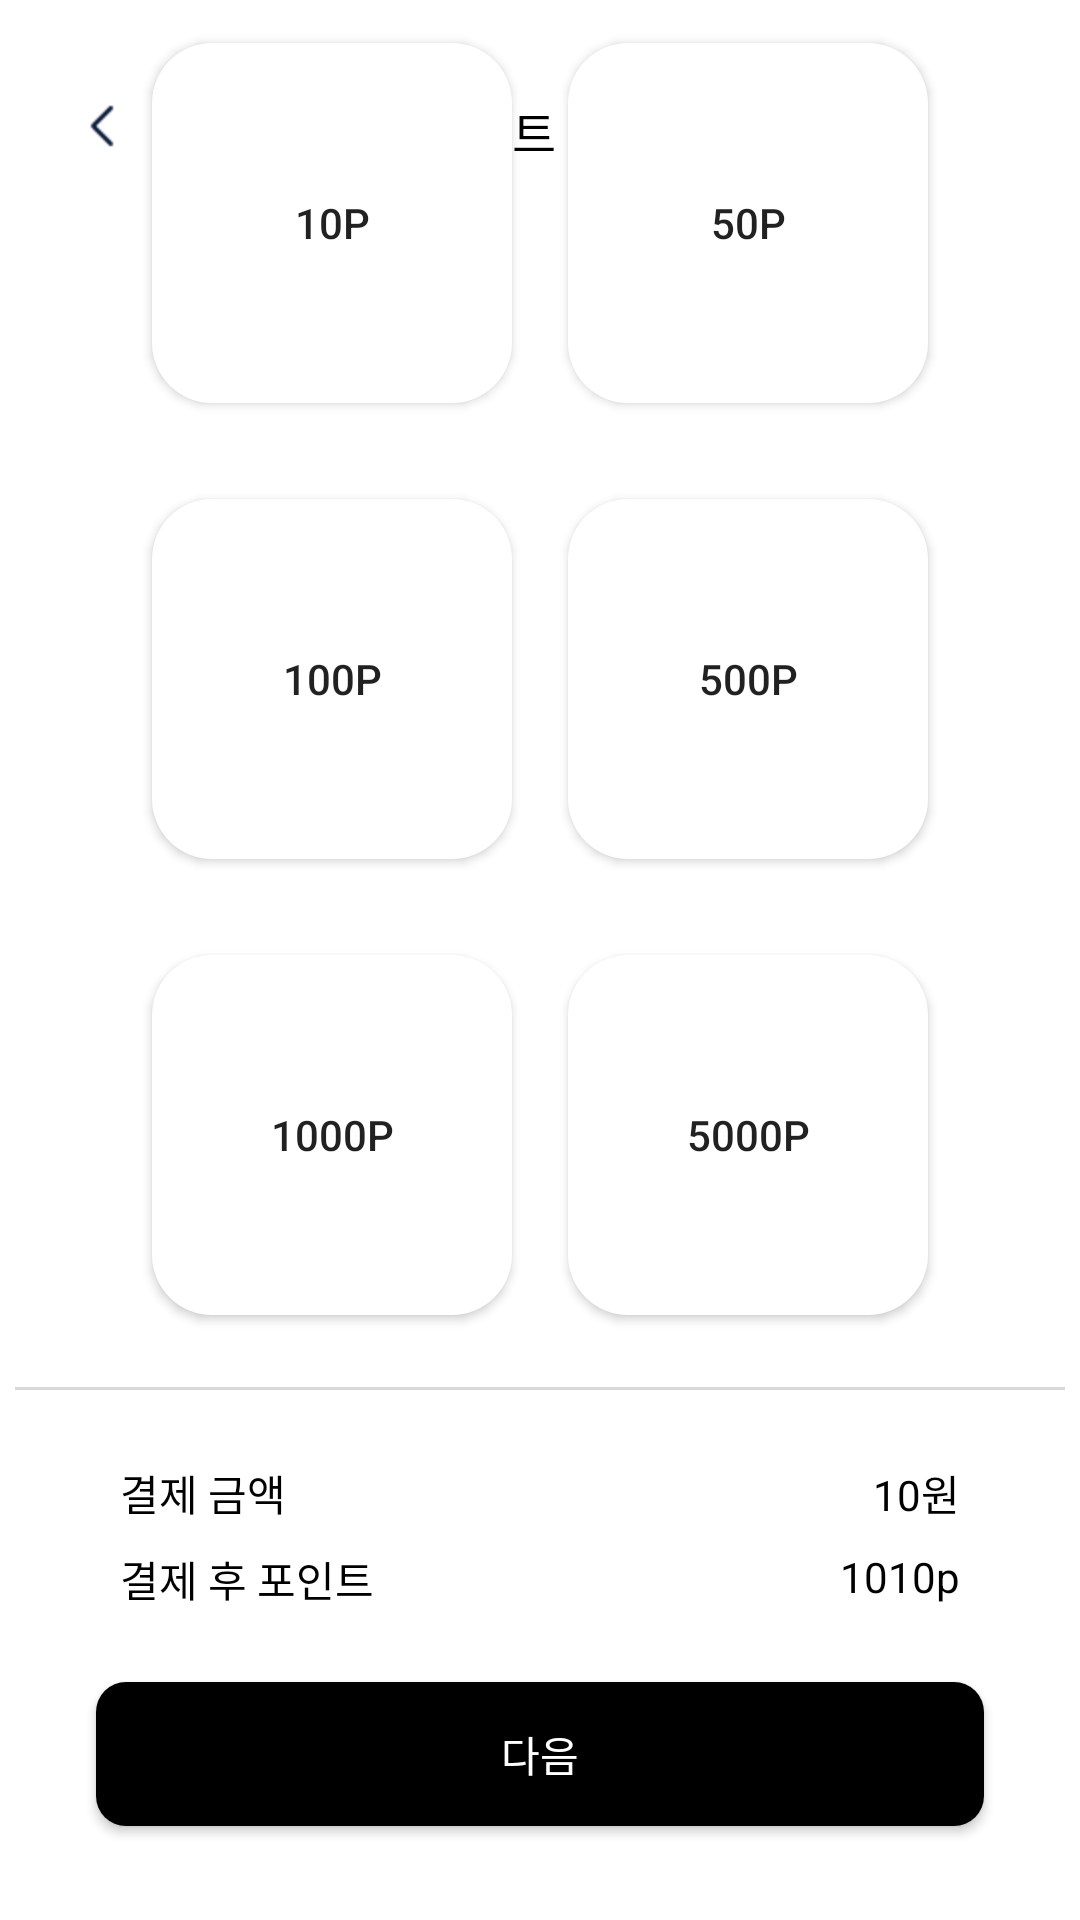

Screen size 1080 × 1920. Icon name, then its center in pixels as (x=x, y=y):
back: (x=102, y=126)
